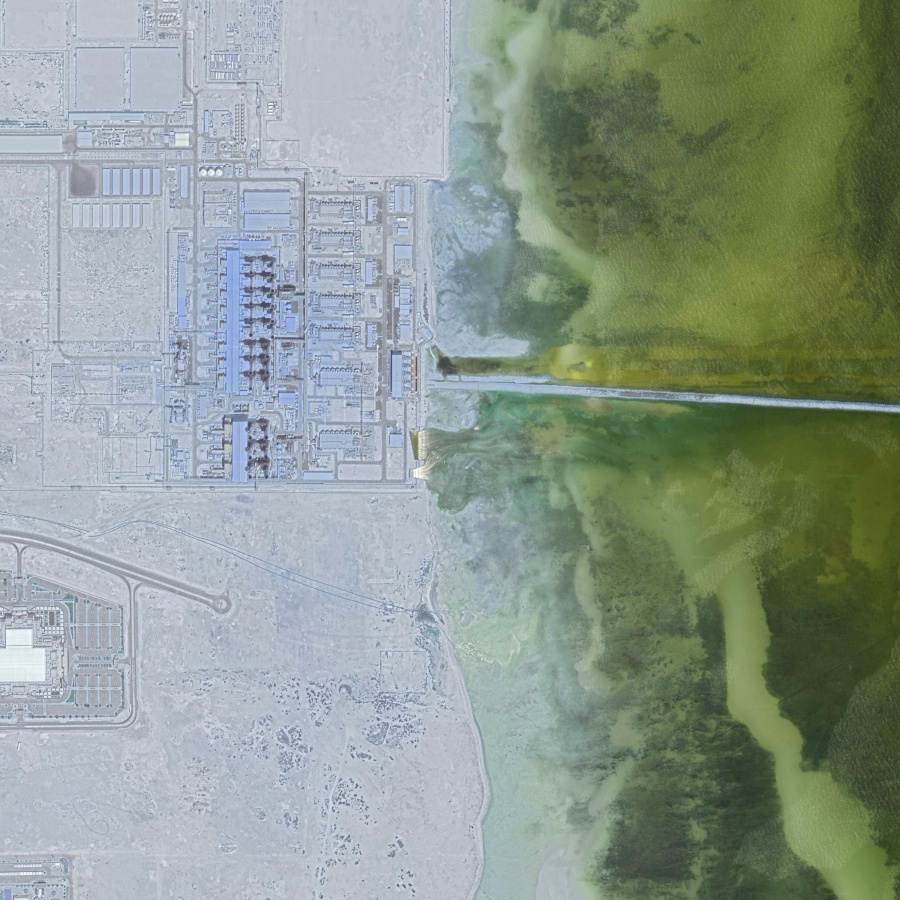PowerPlant: (188, 157, 448, 483)
